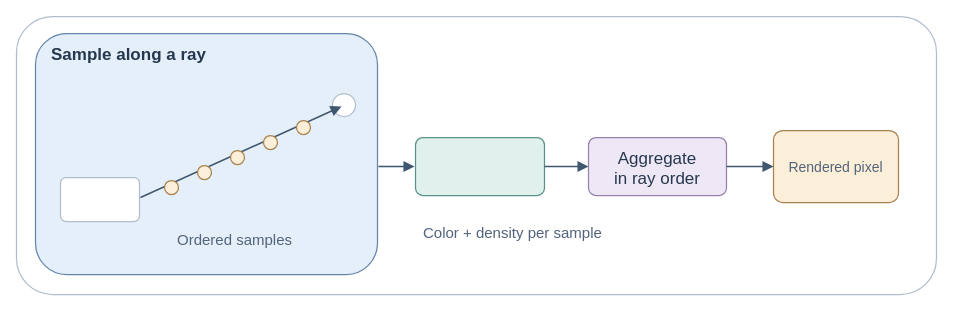
Image size: 953x311. Some labels were removed from this diagram. The shapes that lost their labels are listed below. From the top down, each one's box as (x1, y1, x2, y2) in pixels, then its label:
(414, 136, 545, 196): Evaluate local field
(59, 176, 140, 222): Camera
